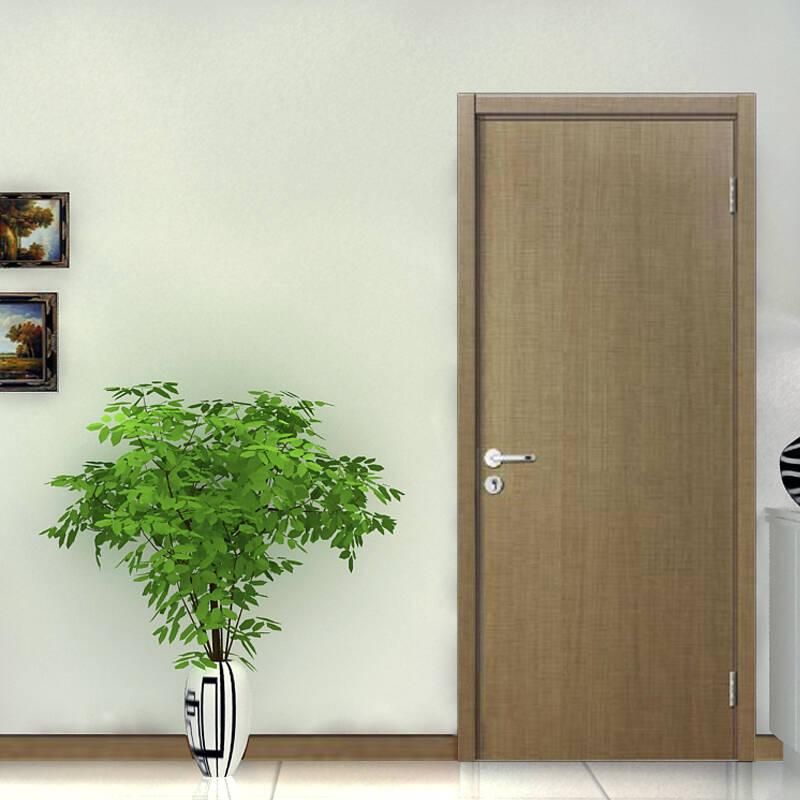door: (462, 101, 750, 756)
